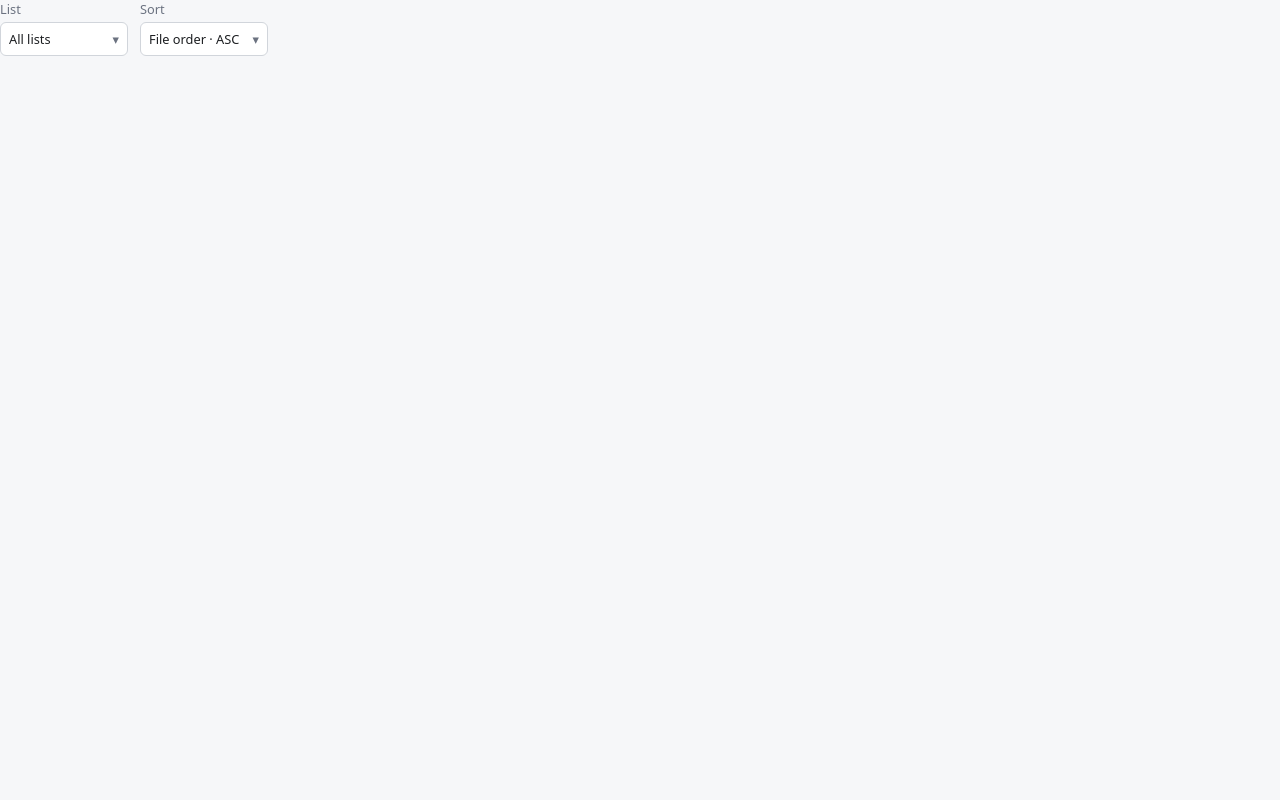
FilterBar pickers › lists the list labels and calls onList when one is chosen
Later steps or results of the test are not shown.
Click the button with aria-label "list filter": [64, 39] box [0, 22, 128, 56]
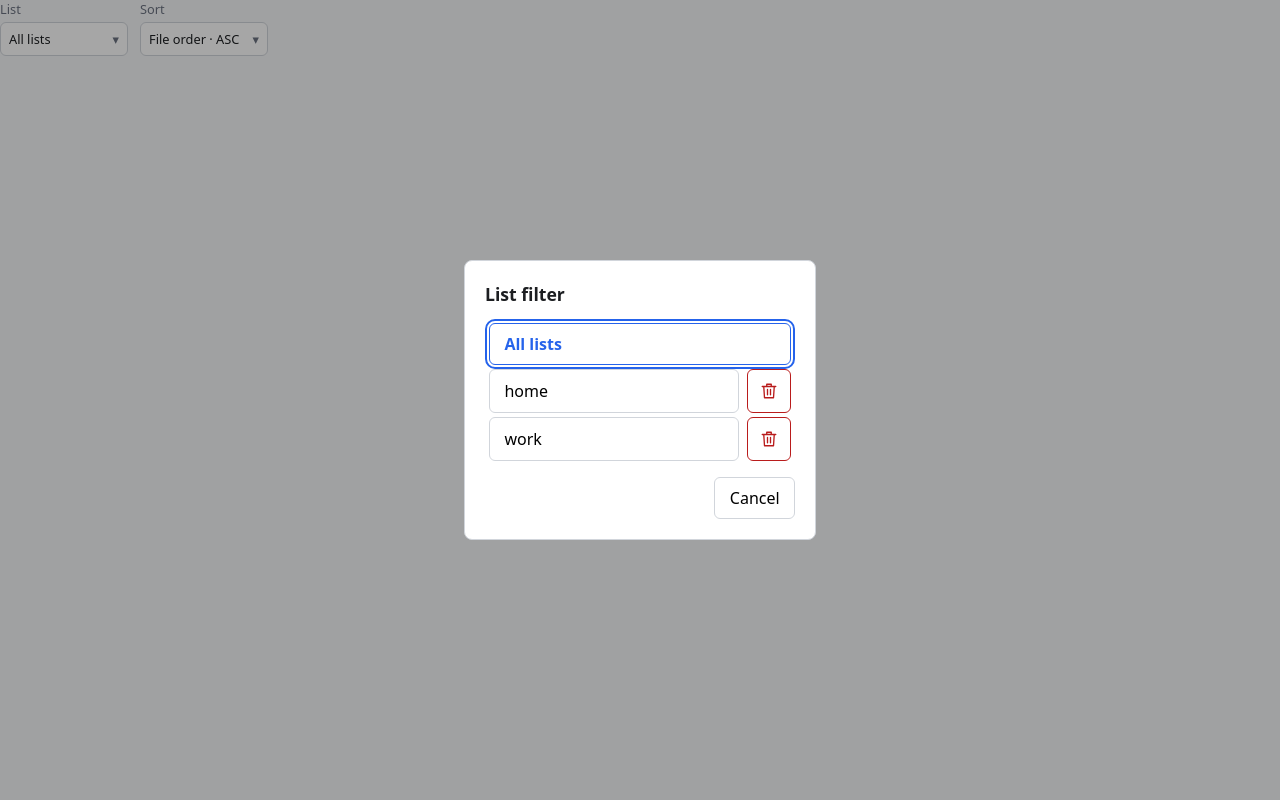
Now the button "work" is shown, box [489, 417, 739, 461]
Now the button "home" is shown, box [489, 369, 739, 413]
